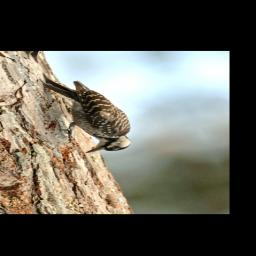Woodpecker: (27, 65, 146, 159)
